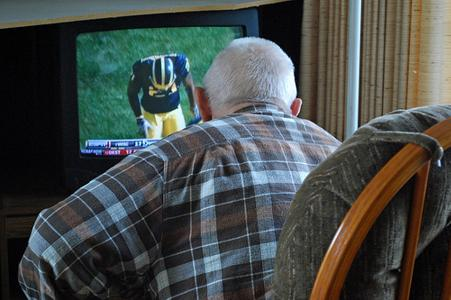person: (20, 36, 346, 299)
